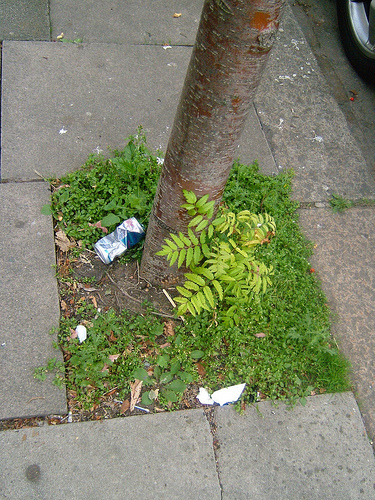litter: (92, 216, 145, 265), (194, 382, 247, 404), (76, 322, 88, 343)
